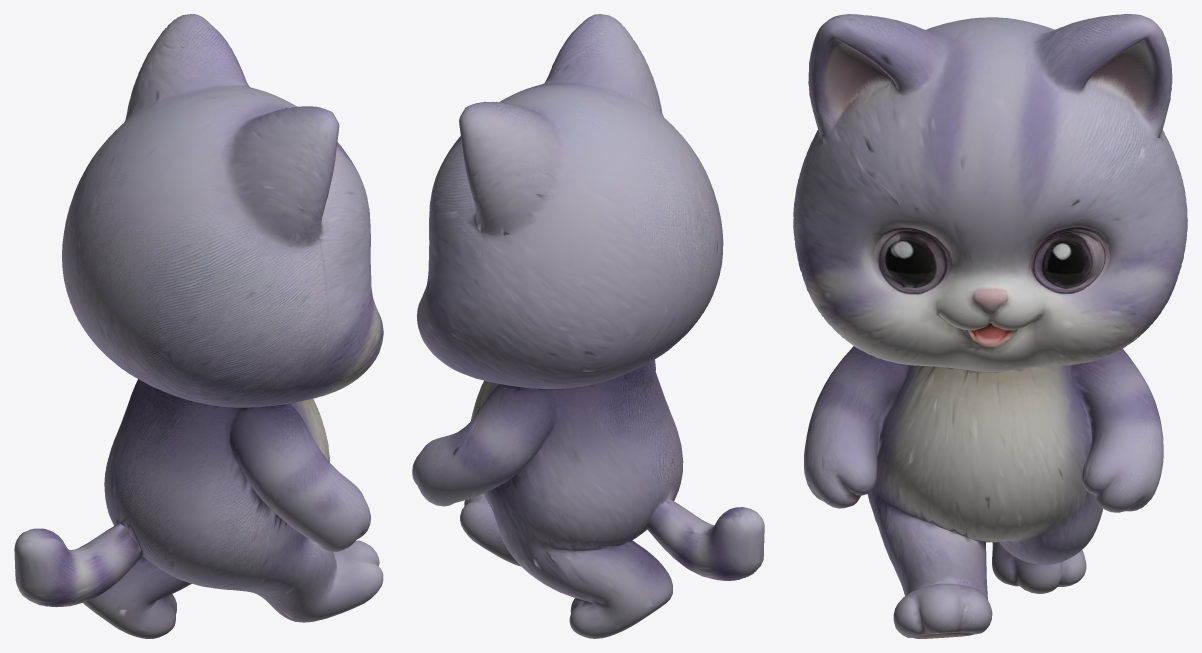
The model's file is cat_walk_4.glb.
The picture shows the model from 3 angles, left to right: view 1: azimuth 30°, elevation 25°; view 2: azimuth 150°, elevation 25°; view 3: azimuth 270°, elevation 25°; orthographic projection. The views are drawn at different scales.
Visible parts, largest first — view 1: node_0; view 2: node_0; view 3: node_0.
Boxes of the visible parts, <box> form: node_0: <box>14,14,383,638</box>; node_0: <box>412,14,764,638</box>; node_0: <box>793,14,1187,638</box>.
Size of the model in its own units: 0.668 by 1.06 by 0.6188.
Materials: 1 (1 with a texture image).
